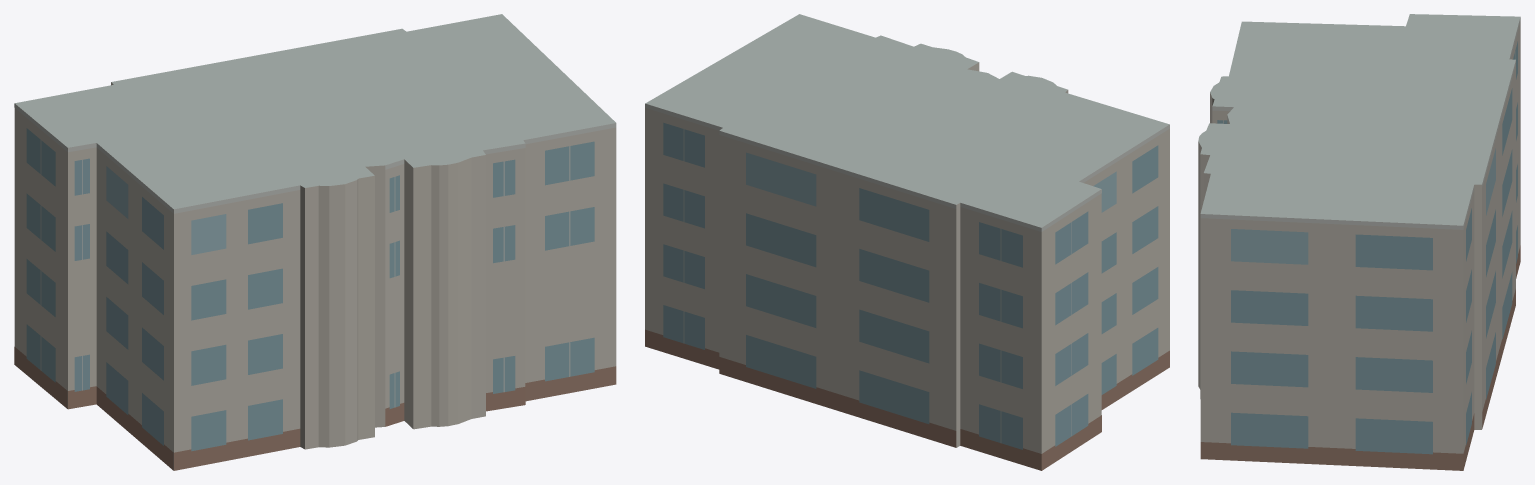
The model's file is survey-upis-32497577.glb.
3 renders of one model, left to right at view 1: azimuth 30°, elevation 25°; view 2: azimuth 150°, elevation 25°; view 3: azimuth 270°, elevation 25°, orthographic. The views are drawn at different scales.
Parts seen in each view (by area): view 1: survey-upis-32497577.tmp; view 2: survey-upis-32497577.tmp; view 3: survey-upis-32497577.tmp.
Boxes of the visible parts, left/top/right/bottom form: survey-upis-32497577.tmp: left=14, top=14, right=616, bottom=470; survey-upis-32497577.tmp: left=645, top=14, right=1169, bottom=470; survey-upis-32497577.tmp: left=1198, top=14, right=1520, bottom=470.
Bounding box in the file's own units: 26.31 × 14.2 × 16.92.
